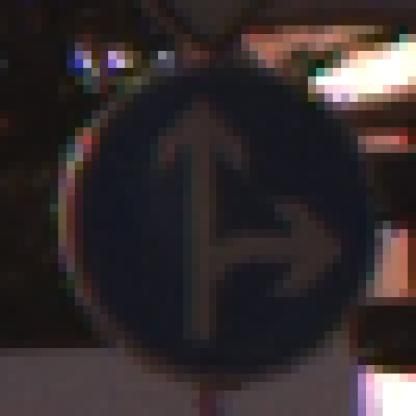Straight or Right: (51, 44, 367, 366)
